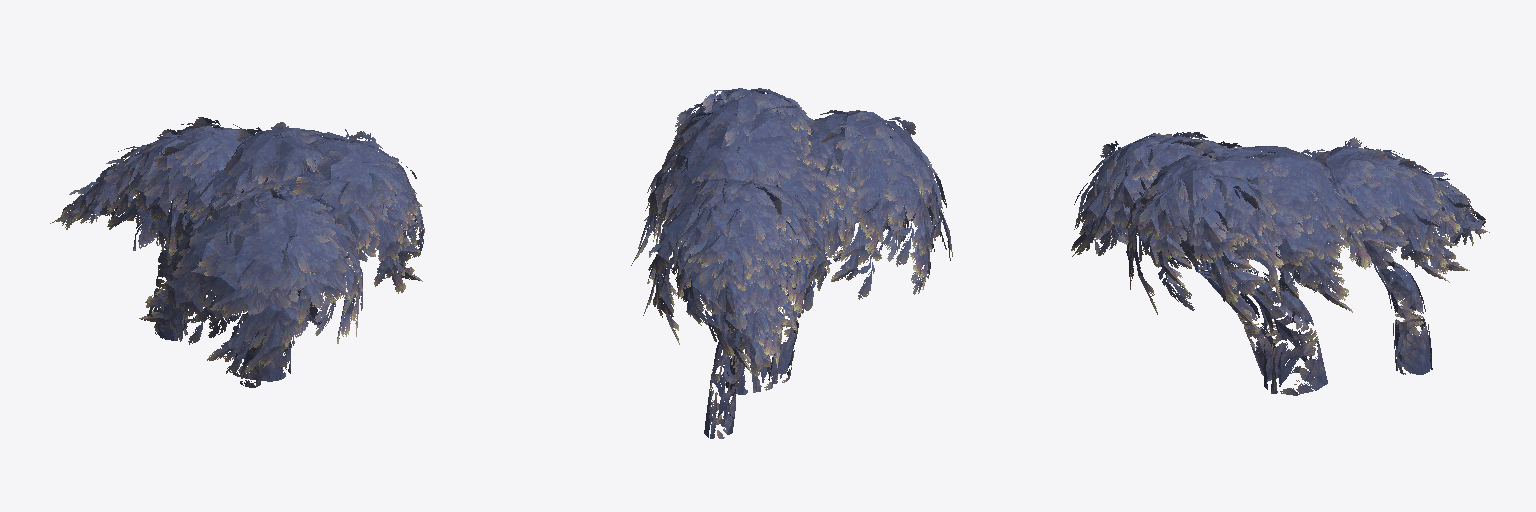
3 renders of one model, left to right at view 1: azimuth 30°, elevation 25°; view 2: azimuth 150°, elevation 25°; view 3: azimuth 270°, elevation 25°, orthographic.
Parts seen in each view (by area): view 1: world/expansion08/doodads/babylonzone/9pln_plaintree_c02.m2_Geos; view 2: world/expansion08/doodads/babylonzone/9pln_plaintree_c02.m2_Geos; view 3: world/expansion08/doodads/babylonzone/9pln_plaintree_c02.m2_Geos.
Part boxes in pixels (bbox=[...]): world/expansion08/doodads/babylonzone/9pln_plaintree_c02.m2_Geos: bbox=[50, 117, 424, 387]; world/expansion08/doodads/babylonzone/9pln_plaintree_c02.m2_Geos: bbox=[631, 88, 952, 438]; world/expansion08/doodads/babylonzone/9pln_plaintree_c02.m2_Geos: bbox=[1071, 132, 1489, 395].
Size of the model in its own units: 54.07 by 46.41 by 71.81.
Materials: 1 (1 with a texture image).